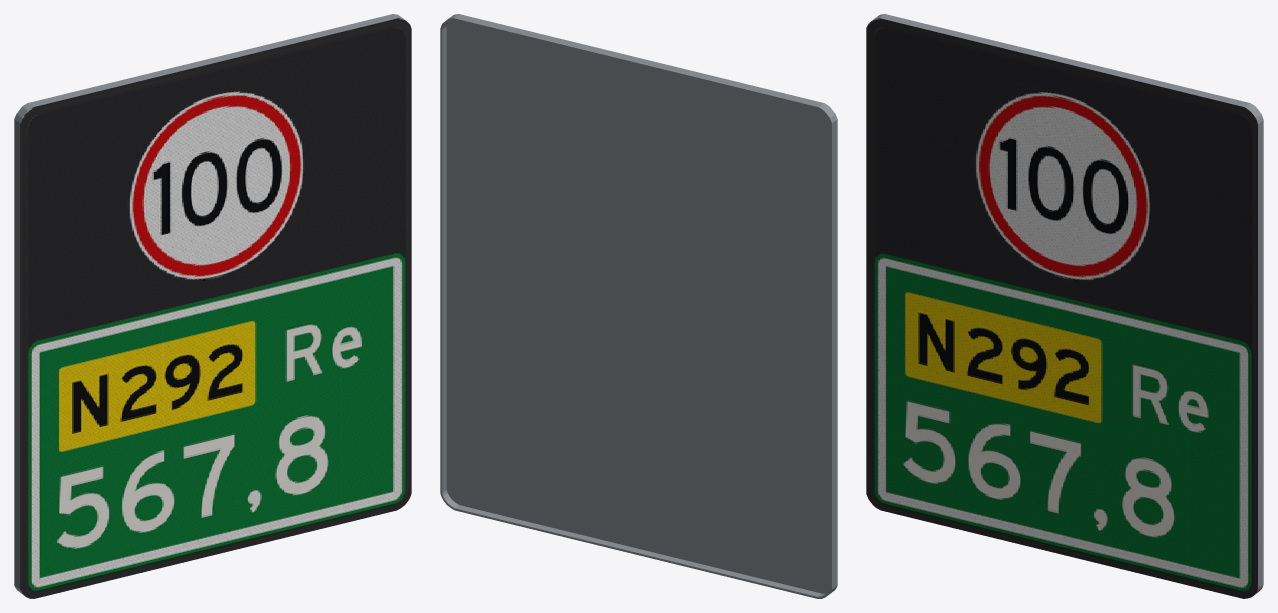
The picture shows the model from 3 angles, left to right: view 1: azimuth 30°, elevation 25°; view 2: azimuth 150°, elevation 25°; view 3: azimuth 330°, elevation 25°; orthographic projection.
Parts seen in each view (by area): view 1: cat_321a70ec72ce2f6f; view 2: cat_321a70ec72ce2f6f; view 3: cat_321a70ec72ce2f6f.
Part boxes in pixels (bbox=[...]): cat_321a70ec72ce2f6f: bbox=[14, 14, 411, 598]; cat_321a70ec72ce2f6f: bbox=[440, 14, 837, 598]; cat_321a70ec72ce2f6f: bbox=[866, 14, 1263, 598].
Bounding box in the file's own units: 0.6 × 0.015 × 0.72.
2 materials, 1 textured.
